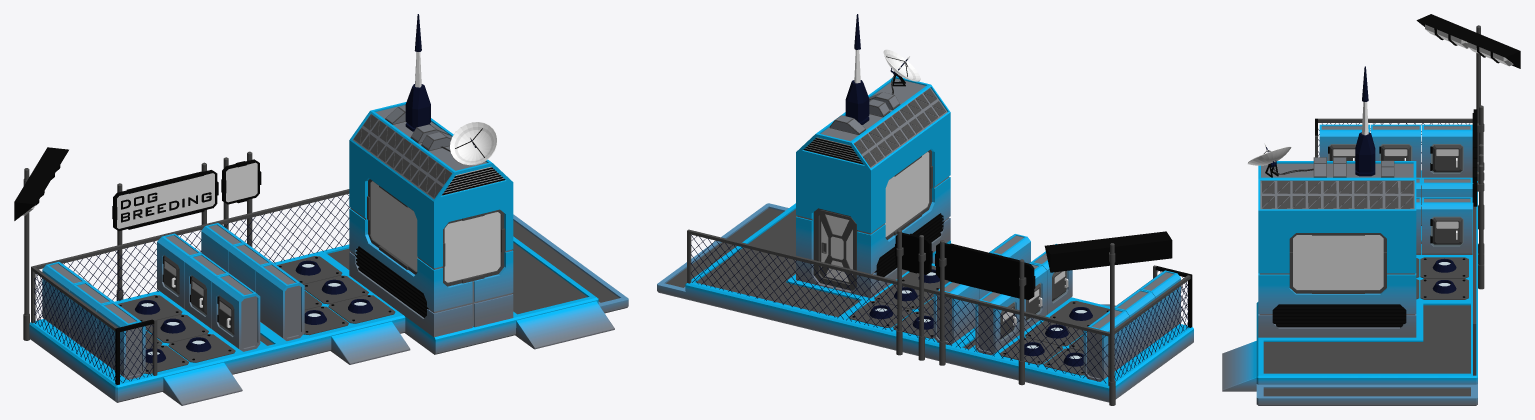
Rendered from Breeding_level_1.fbx.
3 renders of one model, left to right at view 1: azimuth 30°, elevation 25°; view 2: azimuth 150°, elevation 25°; view 3: azimuth 270°, elevation 25°, orthographic. The views are drawn at different scales.
Parts seen in each view (by area): view 1: Breeding level 1.011, Breeding level 1.003, Breeding level 1.004, Breeding level 1.005, Breeding level 1.002, Breeding level 1.001; view 2: Breeding level 1.011, Breeding level 1.003, Breeding level 1.004, Breeding level 1.005, Breeding level 1.002, Breeding level 1.001; view 3: Breeding level 1.011, Breeding level 1.004, Breeding level 1.002, Breeding level 1.003, Breeding level 1.005, Breeding level 1.001.
Boxes of the visible parts, x1=… form: Breeding level 1.011: x1=14, y1=14, x2=511, y2=384; Breeding level 1.003: x1=29, y1=214, x2=628, y2=405; Breeding level 1.004: x1=349, y1=102, x2=513, y2=337; Breeding level 1.005: x1=42, y1=223, x2=304, y2=379; Breeding level 1.002: x1=260, y1=220, x2=619, y2=345; Breeding level 1.001: x1=50, y1=225, x2=300, y2=376; Breeding level 1.011: x1=687, y1=14, x2=1192, y2=405; Breeding level 1.003: x1=657, y1=203, x2=1193, y2=402; Breeding level 1.004: x1=796, y1=76, x2=950, y2=298; Breeding level 1.005: x1=933, y1=234, x2=1180, y2=381; Breeding level 1.002: x1=666, y1=208, x2=975, y2=349; Breeding level 1.001: x1=937, y1=235, x2=1173, y2=378; Breeding level 1.011: x1=1247, y1=14, x2=1520, y2=375; Breeding level 1.004: x1=1258, y1=161, x2=1416, y2=337; Breeding level 1.002: x1=1263, y1=241, x2=1470, y2=396; Breeding level 1.003: x1=1222, y1=170, x2=1477, y2=405; Breeding level 1.005: x1=1319, y1=124, x2=1472, y2=254; Breeding level 1.001: x1=1321, y1=126, x2=1470, y2=202.
Size of the model in its own units: 684 by 361 by 362.
